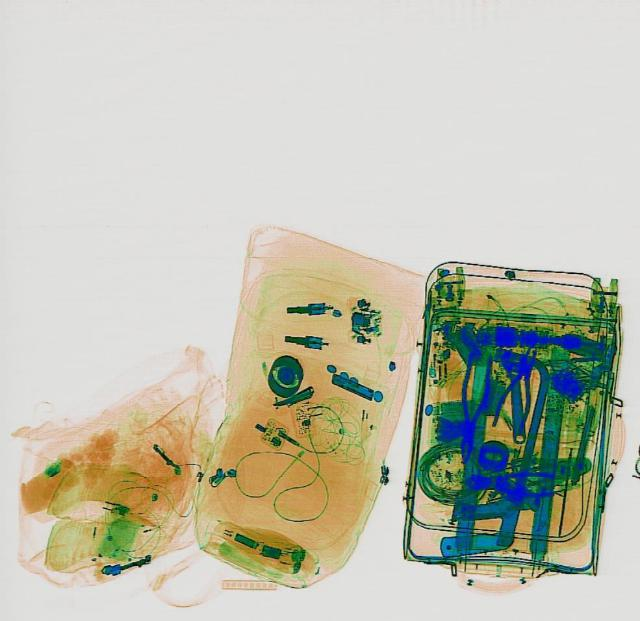Pliers: (448, 343, 496, 461), (490, 341, 548, 432)
Wrench: (496, 346, 530, 443)
